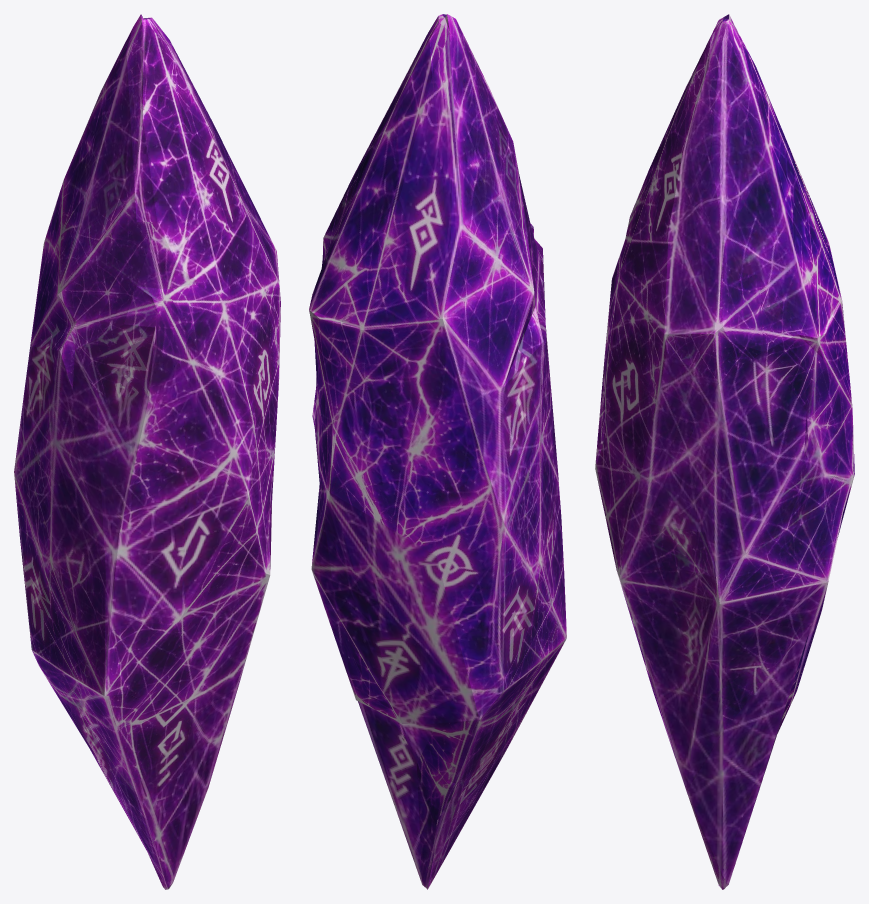
Rendered from crystal-charged-v2.glb.
3 renders of one model, left to right at view 1: azimuth 30°, elevation 25°; view 2: azimuth 150°, elevation 25°; view 3: azimuth 270°, elevation 25°, orthographic. The views are drawn at different scales.
Parts seen in each view (by area): view 1: output_unwrapped; view 2: output_unwrapped; view 3: output_unwrapped.
Boxes of the visible parts, box(x1,y1,x2,y2) form: output_unwrapped: box(14, 14, 280, 889); output_unwrapped: box(309, 14, 566, 889); output_unwrapped: box(595, 14, 854, 889).
Bounding box in the file's own units: 0.5205 × 1.98 × 0.5401.
Materials: 1 (1 with a texture image).
